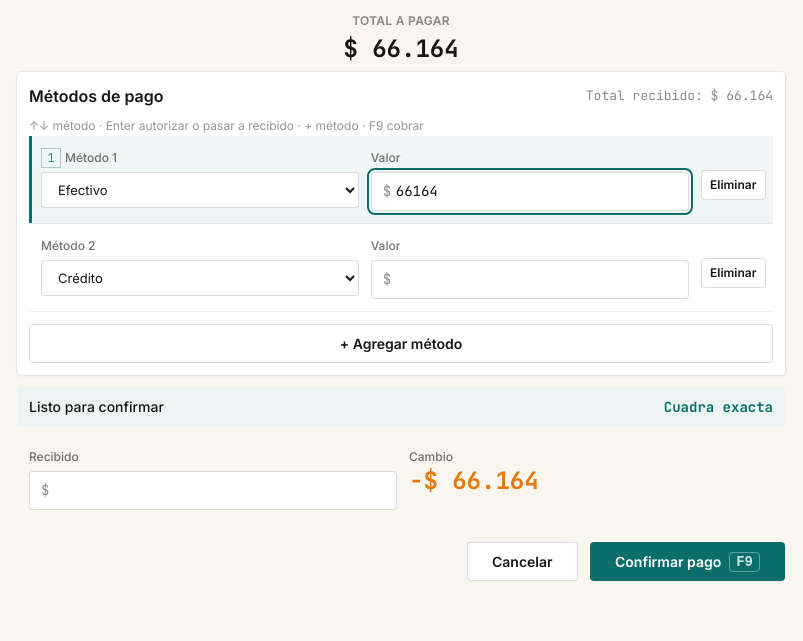
Test case: PaymentProcessing › shows the client's credit balance and confirms within the limit
This screenshot has width=803, height=641.
Select "Crédito" in the dropdown labelled "Método 2": (200, 278) x1=41 y1=260 x2=359 y2=296
Replace the text in the number field labelled "Valor" below "Método 1" with "0": (530, 191) x1=371 y1=172 x2=689 y2=211
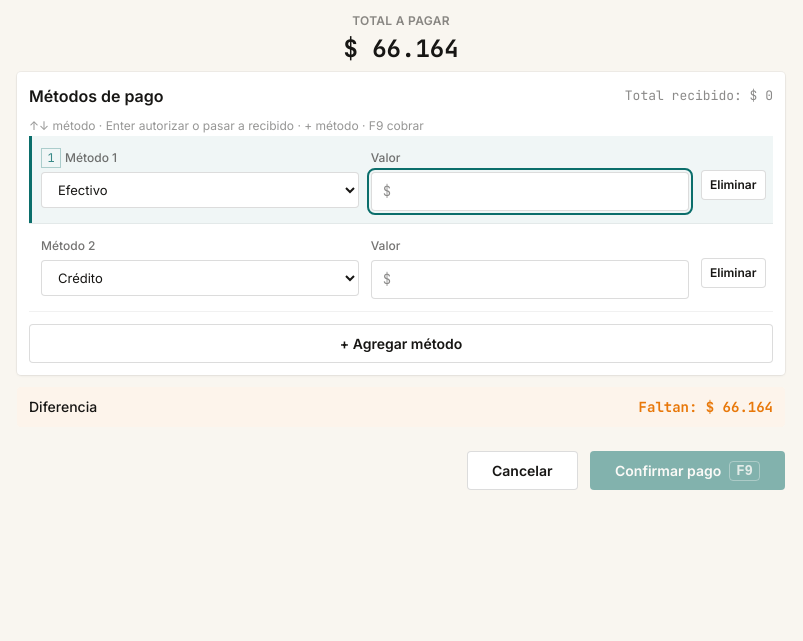
In the 2nd number field labelled "Valor": (530, 279) x1=371 y1=260 x2=689 y2=299, type "66164"
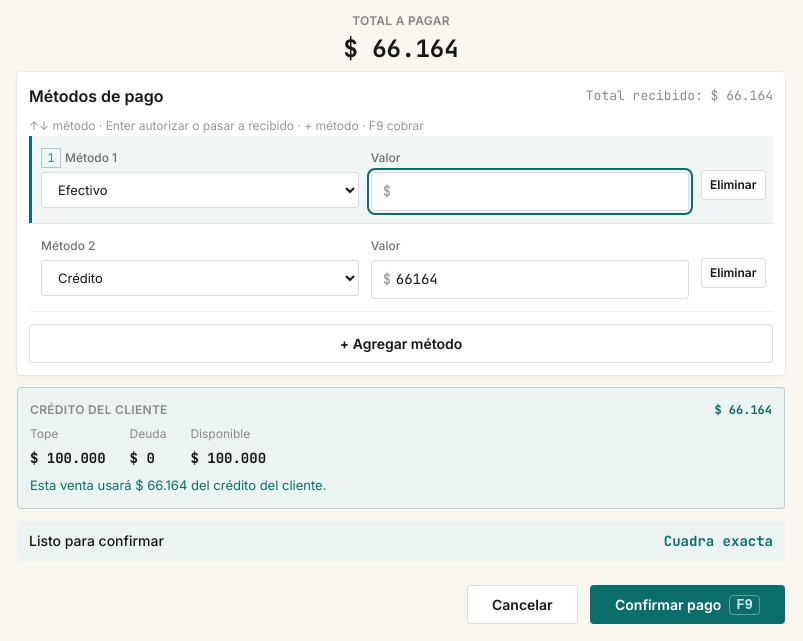
Check: the text "Esta venta usará $ 66.164 del crédito del cliente." is shown, box x1=30 y1=477 x2=326 y2=493
